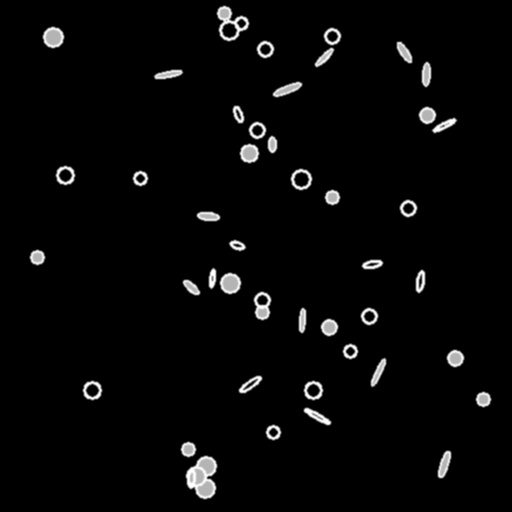pseudomonas: (238, 374, 262, 394), (304, 407, 330, 425), (370, 358, 386, 386), (273, 81, 301, 97), (314, 47, 334, 67), (395, 41, 413, 63), (432, 117, 456, 133), (437, 451, 451, 477), (182, 278, 200, 296), (155, 69, 181, 79), (197, 211, 219, 221), (415, 270, 425, 292), (232, 105, 244, 123), (362, 259, 382, 269), (422, 62, 430, 86), (229, 239, 245, 251), (187, 468, 195, 488), (208, 269, 216, 287), (299, 309, 305, 331), (269, 136, 275, 152)
synechocystis: (196, 479, 214, 497), (197, 457, 215, 475), (44, 28, 62, 46), (221, 274, 239, 292), (220, 21, 238, 39), (187, 467, 205, 485), (292, 170, 310, 188), (57, 167, 73, 183), (84, 382, 100, 398), (305, 382, 321, 398), (241, 145, 257, 161), (448, 351, 462, 365), (325, 29, 339, 43), (362, 309, 376, 323), (420, 108, 434, 122), (258, 42, 272, 56), (250, 123, 264, 137), (401, 201, 415, 215), (255, 293, 269, 307), (322, 320, 336, 334), (267, 426, 279, 438), (477, 393, 489, 405), (31, 251, 43, 263), (182, 443, 194, 455), (256, 306, 268, 318), (235, 17, 247, 29), (134, 172, 146, 184), (326, 191, 338, 203), (218, 7, 230, 19), (344, 345, 356, 357)
